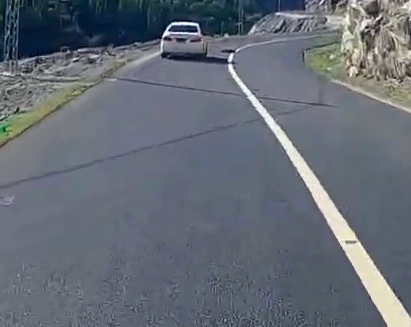stright: (149, 26, 354, 151)
